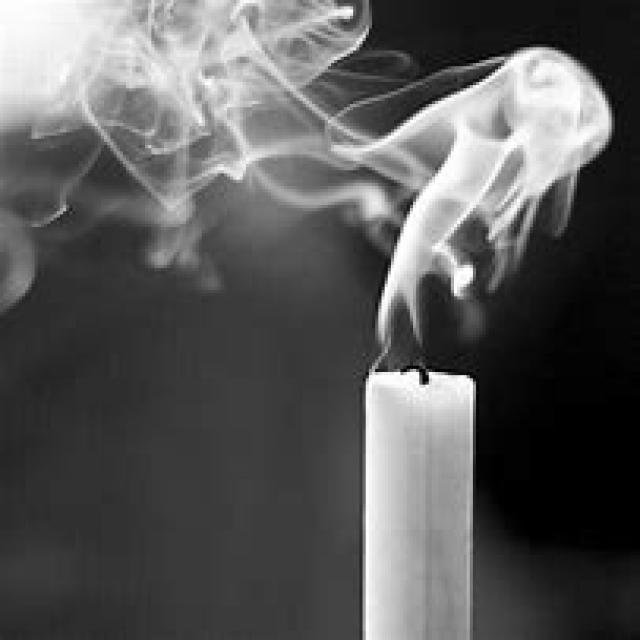Smoke: (6, 1, 612, 370)
